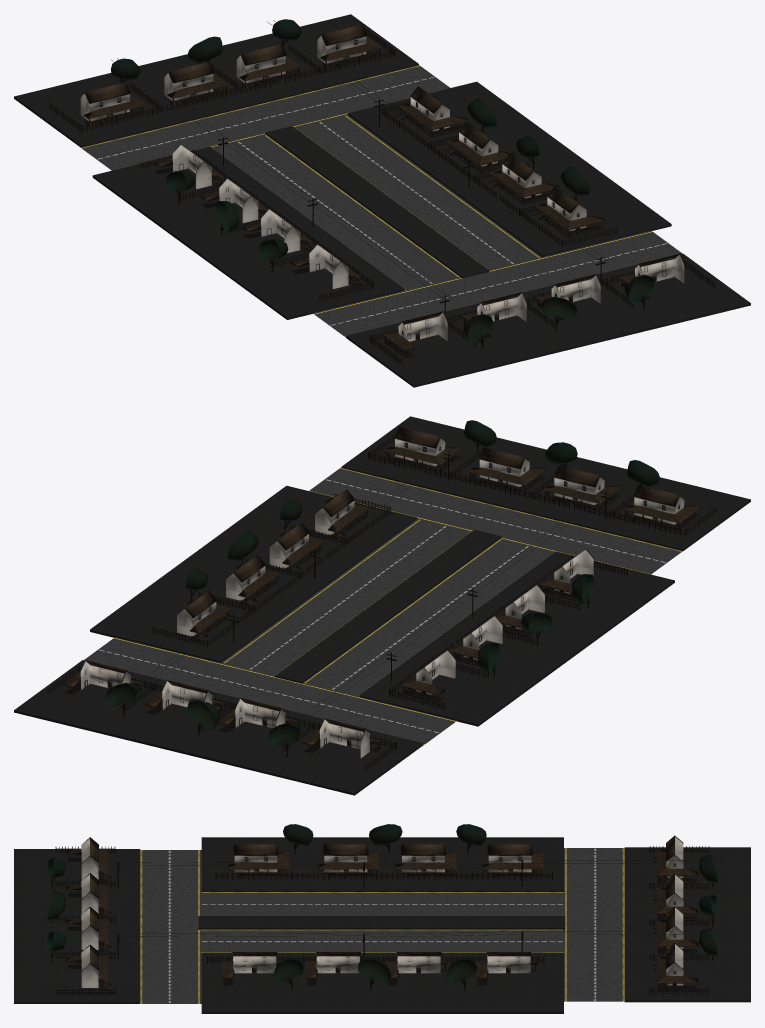
The model's file is fratRowLevel.fbx.
3 views of the same model, one above another, from view 1: azimuth 30°, elevation 25°; view 2: azimuth 150°, elevation 25°; view 3: azimuth 270°, elevation 25° (orthographic). The views are drawn at different scales.
Visible parts, largest first — view 1: pCube39 (×2), pPlane4 (×2), pCube37, pCube36, pPlane2, pPlane3, pCube38, polySurface2451 (×2), polySurface1750 (×2), polySurface2267 (×2), polySurface2448 (×2), polySurface2449 (×2) (+10 smaller); view 2: pCube39 (×2), pPlane4 (×2), pCube37, pCube36, pPlane2, pPlane3, pCube38, polySurface2448 (×2), polySurface2449 (×2), polySurface2451 (×2), polySurface2267 (×2), polySurface1750 (×2) (+10 smaller); view 3: pCube39 (×2), pPlane4 (×2), pCube37, pCube36, pPlane2, pPlane3, pCube38, polySurface1750 (×2), polySurface2267 (×2), polySurface2265 (×2), polySurface2451 (×2), polySurface2448 (×2) (+13 smaller).
Part boxes in pixels (box(x1,y1,x2,y2)): pCube39 (×2): box(14, 14, 750, 387); pPlane4 (×2): box(80, 65, 682, 337); pCube37: box(348, 81, 671, 256); pCube36: box(92, 147, 404, 319); pPlane2: box(212, 135, 459, 290); pPlane3: box(295, 115, 542, 269); pCube38: box(265, 126, 489, 278); polySurface2451 (×2): box(316, 24, 448, 358); polySurface1750 (×2): box(289, 86, 469, 288); polySurface2267 (×2): box(153, 143, 606, 237); polySurface2448 (×2): box(80, 82, 684, 300); polySurface2449 (×2): box(163, 61, 601, 320); pCube39 (×2): box(14, 416, 750, 795); pPlane4 (×2): box(84, 467, 683, 745); pCube37: box(90, 485, 416, 662); pCube36: box(359, 551, 674, 726); pPlane2: box(303, 539, 554, 695); pPlane3: box(221, 519, 471, 675); pCube38: box(275, 529, 501, 683); polySurface2448 (×2): box(301, 426, 463, 758); polySurface2449 (×2): box(217, 447, 548, 732); polySurface2451 (×2): box(62, 485, 702, 694); polySurface2267 (×2): box(315, 489, 456, 701); polySurface1750 (×2): box(177, 548, 594, 641); pCube39 (×2): box(14, 847, 750, 1003); pPlane4 (×2): box(138, 848, 624, 1003); pCube37: box(201, 953, 563, 1013); pCube36: box(201, 837, 563, 891); pPlane2: box(201, 892, 564, 915); pPlane3: box(200, 929, 564, 954); pCube38: box(198, 916, 565, 929); polySurface1750 (×2): box(227, 844, 537, 985); polySurface2267 (×2): box(221, 844, 543, 985); polySurface2265 (×2): box(317, 844, 447, 985); polySurface2451 (×2): box(66, 837, 698, 990); polySurface2448 (×2): box(66, 835, 698, 989).
Bounding box in the file's own units: 573 × 91.84 × 1022.
Materials: 7 (6 with a texture image).
